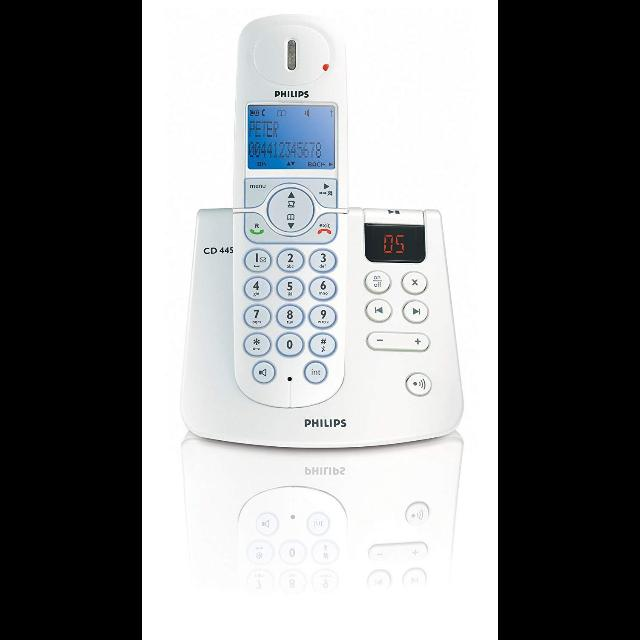Telephone-Set: (157, 16, 476, 444)
